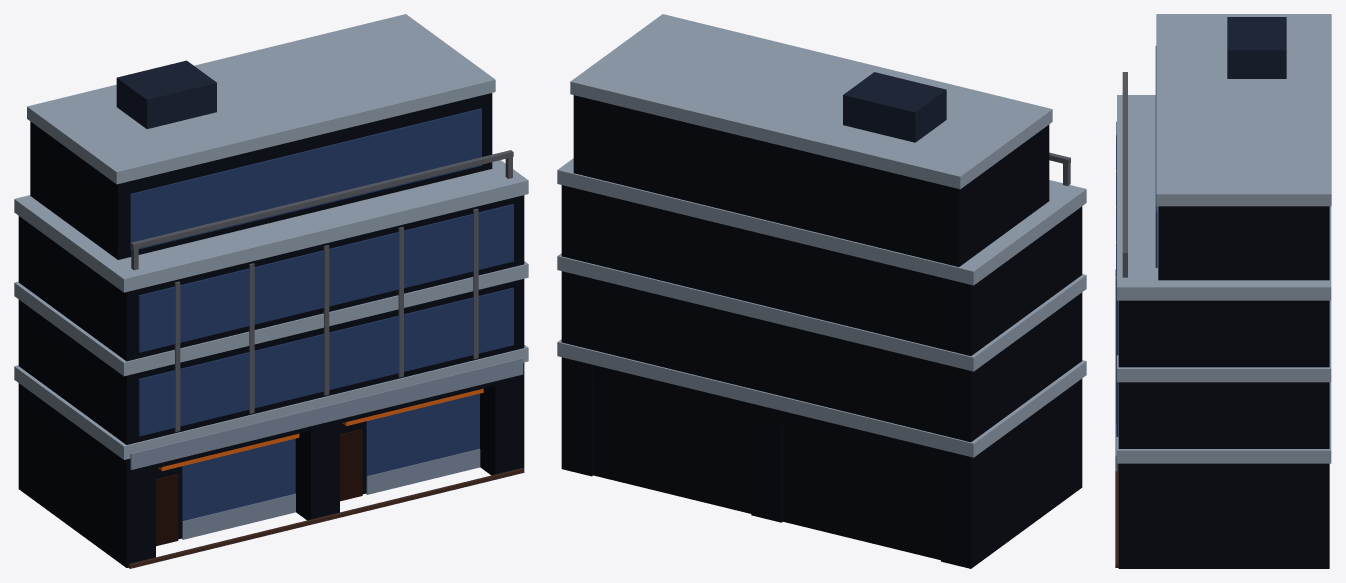
Rendered from exchange5.obj.
3 renders of one model, left to right at view 1: azimuth 30°, elevation 25°; view 2: azimuth 150°, elevation 25°; view 3: azimuth 270°, elevation 25°, orthographic. The views are drawn at different scales.
Parts seen in each view (by area): view 1: floor-glazing, top-slab, floor-slabs, lower-floors, base-piers, top-glazing, top-floor, shopfronts, transom, roof-plant, stallrisers, mullions (+6 smaller); view 2: lower-floors, top-floor, top-slab, base-back, floor-slabs, base-piers, base-heads, roof-plant; view 3: top-slab, lower-floors, base-piers, floor-slabs, top-floor, roof-plant, terrace-rail, top-glazing, floor-glazing, pavement, mullions.
Boxes of the visible parts, <box> form: floor-glazing: <box>138,204,513,436</box>; top-slab: <box>27,14,495,184</box>; floor-slabs: <box>14,154,528,459</box>; lower-floors: <box>18,195,524,444</box>; base-piers: <box>18,362,524,567</box>; top-glazing: <box>130,108,481,250</box>; top-floor: <box>30,93,492,259</box>; shopfronts: <box>181,393,479,522</box>; transom: <box>130,358,523,469</box>; roof-plant: <box>116,60,216,128</box>; stallrisers: <box>182,448,480,539</box>; mullions: <box>174,208,478,431</box>; lower-floors: <box>561,185,1082,442</box>; top-floor: <box>573,95,1049,266</box>; top-slab: <box>570,14,1052,189</box>; base-back: <box>593,381,940,560</box>; floor-slabs: <box>557,158,1086,457</box>; base-piers: <box>561,357,1082,568</box>; base-heads: <box>592,365,940,466</box>; roof-plant: <box>843,72,946,142</box>; top-slab: <box>1156,14,1331,206</box>; lower-floors: <box>1118,300,1329,448</box>; base-piers: <box>1118,463,1329,568</box>; floor-slabs: <box>1117,95,1331,463</box>; top-floor: <box>1158,206,1329,280</box>; roof-plant: <box>1227,17,1286,78</box>; terrace-rail: <box>1122,72,1127,277</box>; top-glazing: <box>1155,46,1157,267</box>; floor-glazing: <box>1116,121,1118,436</box>; pavement: <box>1115,463,1118,567</box>; mullions: <box>1116,134,1116,423</box>.
Bounding box in the file's own units: 6.92 × 6.68 × 3.28.
